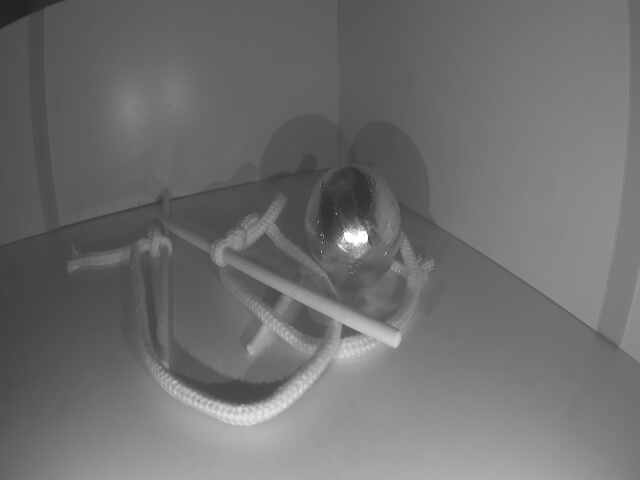Live: (305, 166, 404, 295)
